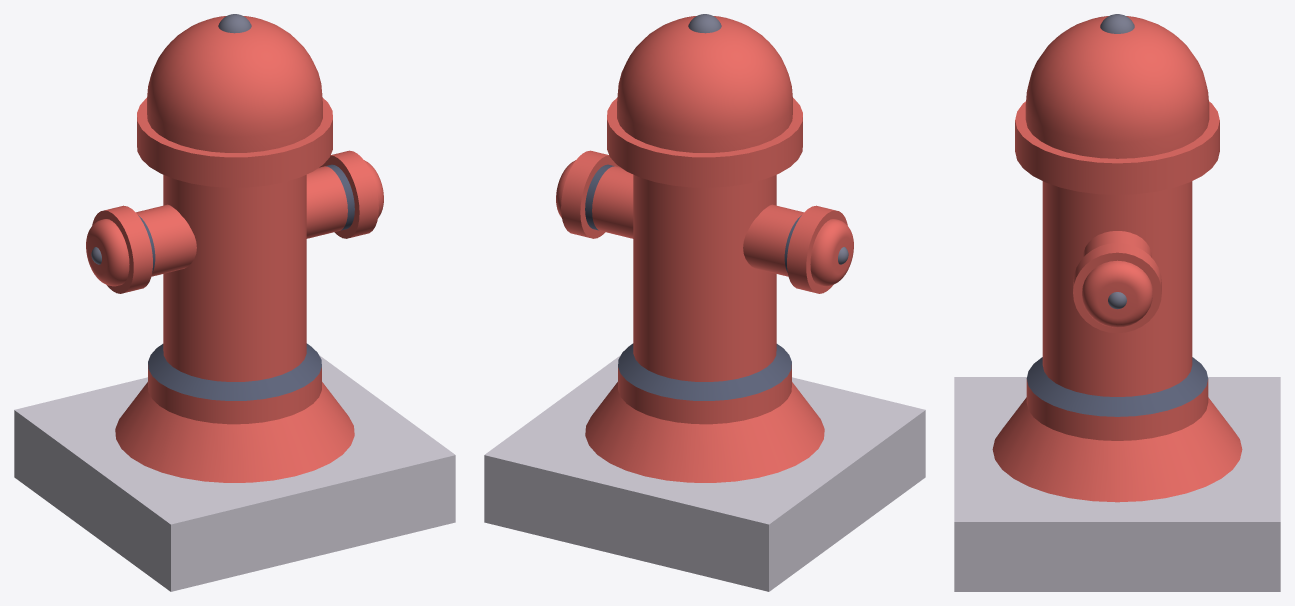
Rendered from concrete_fire_hydrant.fbx.
3 renders of one model, left to right at view 1: azimuth 30°, elevation 25°; view 2: azimuth 150°, elevation 25°; view 3: azimuth 270°, elevation 25°, orthographic. The views are drawn at different scales.
Parts seen in each view (by area): view 1: fire base, Cube.042, fire left, fire right; view 2: fire base, Cube.042, fire left, fire right; view 3: fire base, Cube.042, fire right.
Part boxes in pixels (x1,y1,x2,y2): fire base: (115, 14, 354, 482); Cube.042: (14, 355, 455, 591); fire left: (86, 204, 196, 293); fire right: (306, 150, 383, 238); fire base: (585, 14, 824, 482); Cube.042: (484, 355, 925, 591); fire left: (743, 204, 853, 293); fire right: (556, 150, 633, 238); fire base: (992, 14, 1242, 502); Cube.042: (954, 377, 1280, 591); fire right: (1073, 231, 1161, 333).
Bounding box in the file's own units: 107 × 175 × 102.
